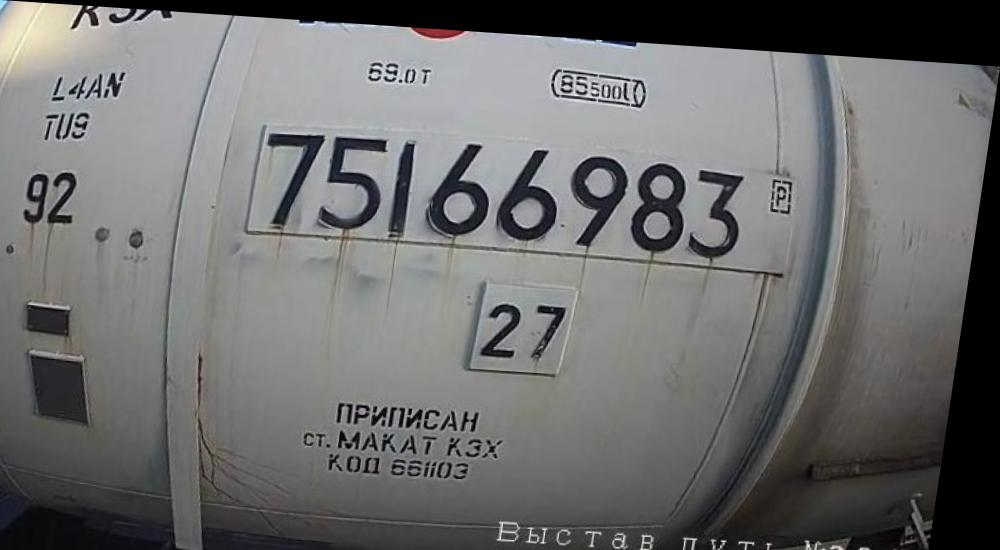Wagon-number: (254, 118, 758, 259)
